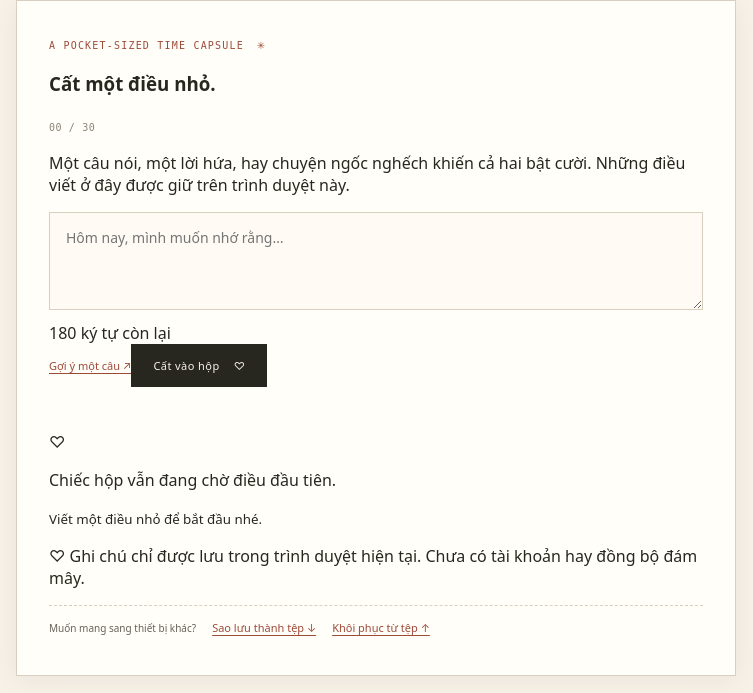
Scenario: notes › fills the draft from a starter suggestion
Click the button "Gợi ý một câu ↗" at (90, 365), box [49, 358, 131, 373]
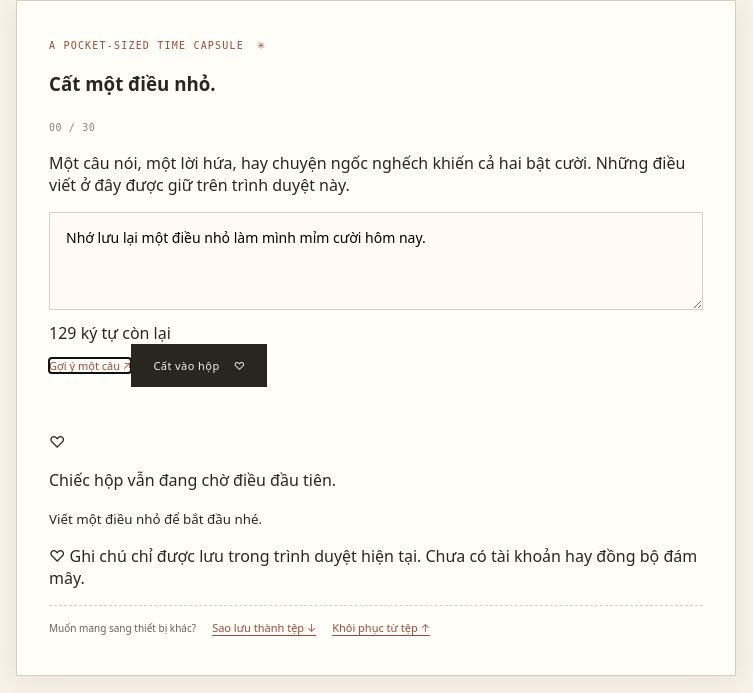
Check: the text box named "Điều muốn lưu giữ" is not empty, box [49, 212, 703, 310]
